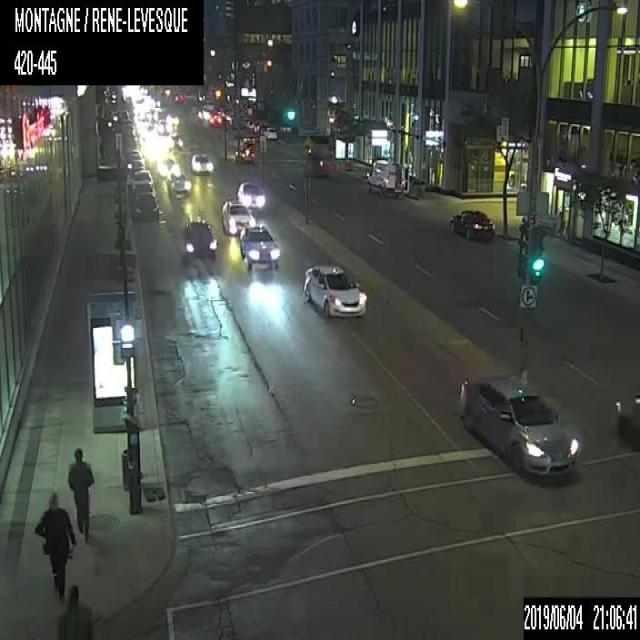pedestrian: (34, 488, 77, 596), (66, 445, 94, 543), (54, 580, 94, 639)
vehicle: (456, 374, 582, 478), (302, 263, 368, 317), (606, 391, 639, 453), (238, 227, 279, 270), (448, 209, 496, 240), (365, 158, 404, 195), (180, 221, 216, 256), (220, 200, 254, 233), (236, 181, 266, 214), (132, 191, 160, 223), (127, 179, 154, 209), (166, 169, 192, 196), (188, 152, 215, 172), (158, 157, 179, 178), (129, 169, 154, 185), (235, 145, 254, 162), (125, 153, 141, 170), (168, 131, 182, 150), (130, 157, 145, 173), (262, 126, 277, 140), (157, 119, 169, 134), (208, 113, 220, 126), (126, 147, 139, 157)
